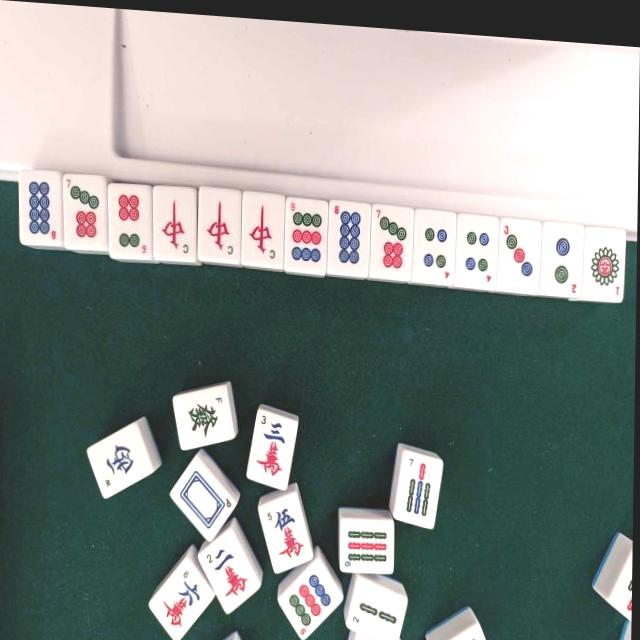hdr: (199, 185, 242, 260), (155, 184, 197, 260), (242, 189, 285, 262)
sd1: (586, 218, 624, 292)
sd2: (541, 215, 584, 288)
sd3: (498, 212, 542, 284)
sd4: (413, 204, 457, 278), (456, 210, 498, 280)
sd6: (111, 183, 151, 257)
sd7: (64, 174, 107, 247), (371, 201, 413, 275)
sd8: (328, 197, 370, 270), (22, 172, 62, 244)
sd9: (286, 194, 328, 268)
